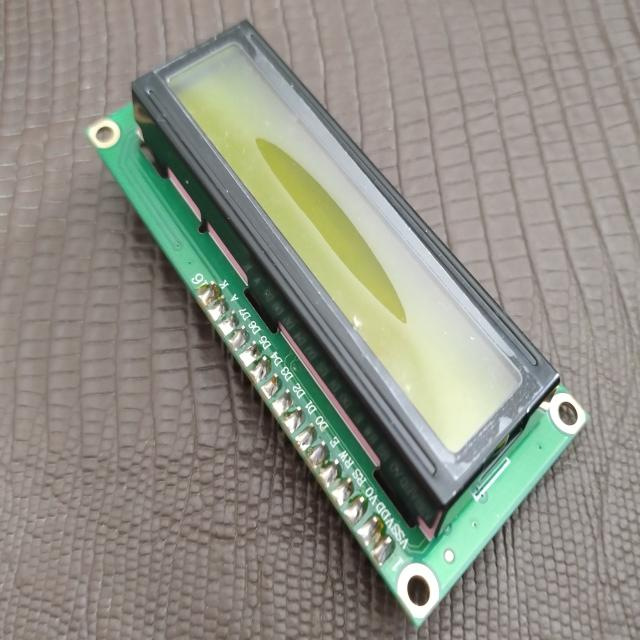lcd: (77, 14, 597, 631)
